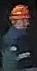helmet: (6, 1, 31, 29)
vest: (0, 26, 36, 70)
